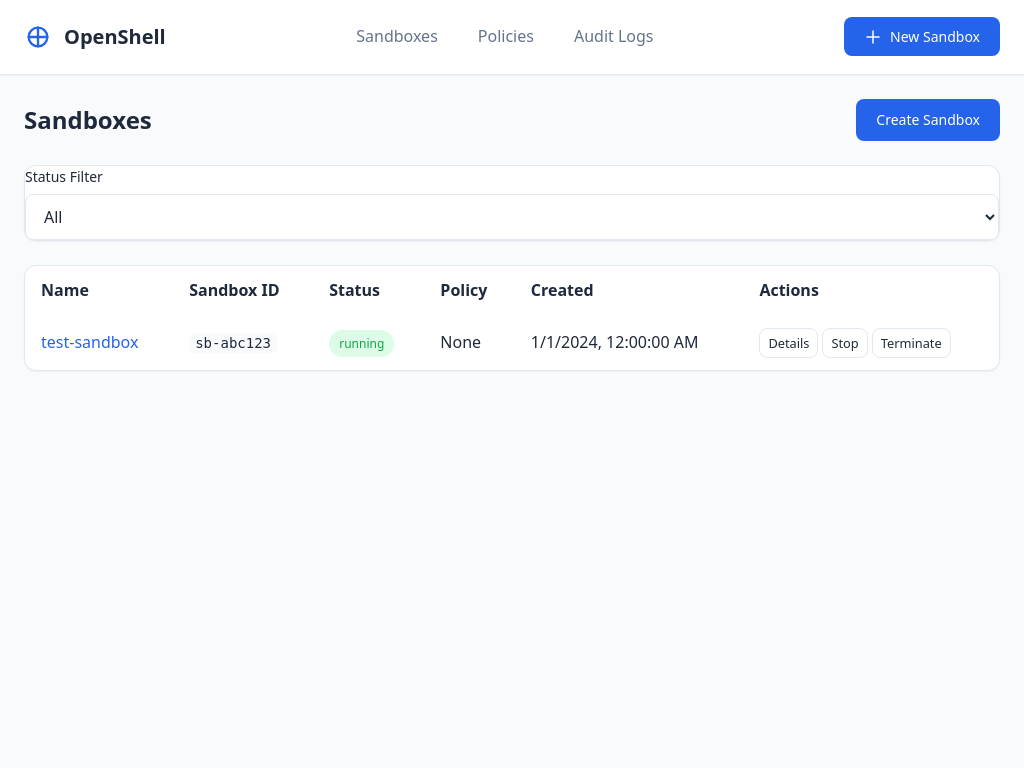
Test: App › navigates to sandbox detail on click
The width and height of the screenshot is (1024, 768).
Click the link "test-sandbox" at (90, 342), box x1=41 y1=331 x2=138 y2=353
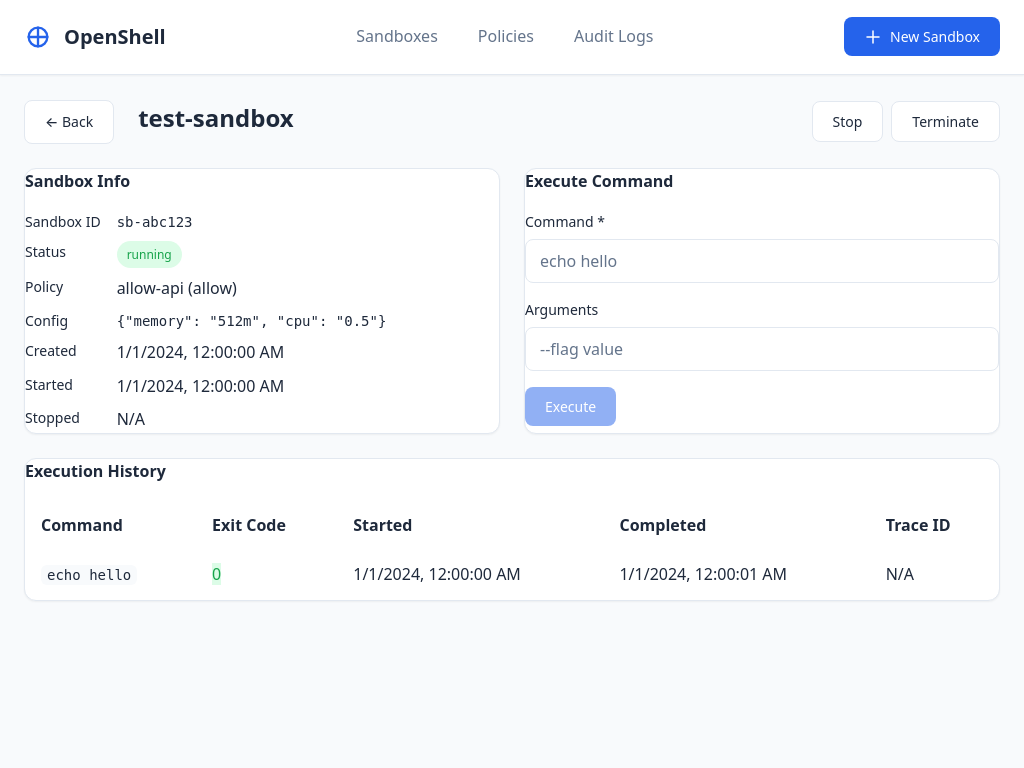
Expected: the text "sb-abc123" is shown, x1=117 y1=214 x2=192 y2=230
Expected: the heading "Sandbox Info" is shown, x1=25 y1=170 x2=130 y2=192
